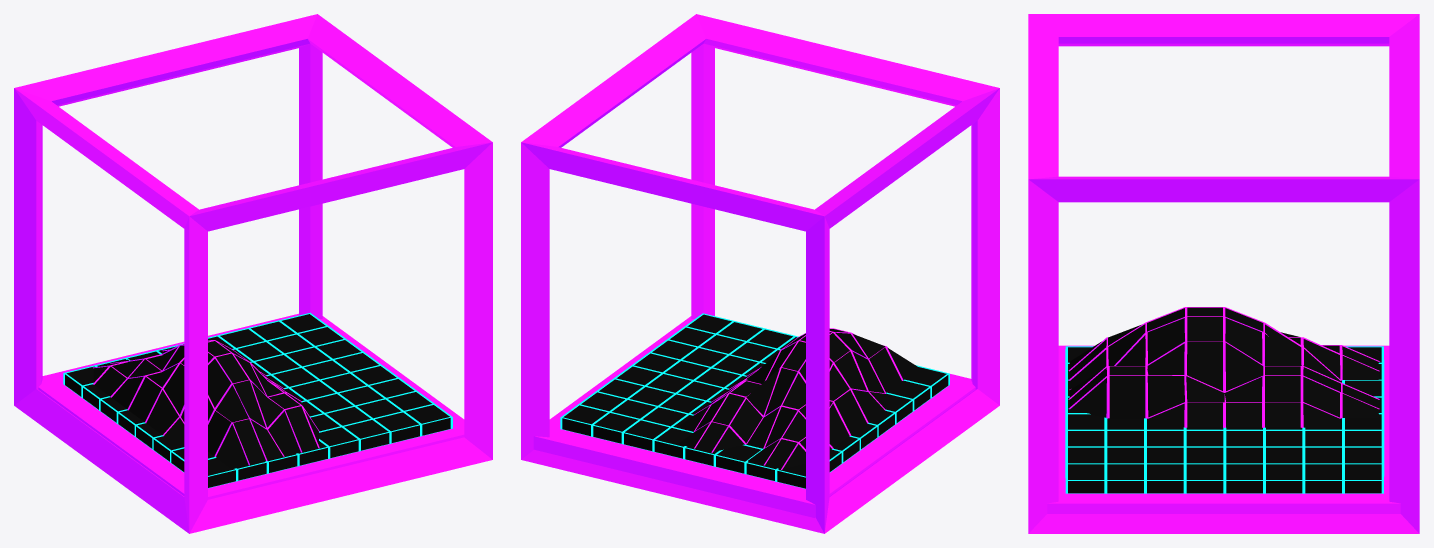
File: Vaporwave Memory Cube.fbx
The picture shows the model from 3 angles, left to right: view 1: azimuth 30°, elevation 25°; view 2: azimuth 150°, elevation 25°; view 3: azimuth 270°, elevation 25°; orthographic projection. The views are drawn at different scales.
Visible parts, largest first — view 1: Cube.057, Cube.059, Cube.060, Cube.058, Cube.056, Cube.061; view 2: Cube.057, Cube.059, Cube.060, Cube.058, Cube.056, Cube.061; view 3: Cube.057, Cube.060, Cube.059, Cube.058, Cube.056, Cube.061.
Boxes of the visible parts, left/top/right/bottom form: Cube.057: left=14, top=14, right=492, bottom=533; Cube.059: left=65, top=314, right=450, bottom=487; Cube.060: left=93, top=340, right=318, bottom=468; Cube.058: left=38, top=313, right=464, bottom=499; Cube.056: left=63, top=312, right=452, bottom=488; Cube.061: left=92, top=340, right=319, bottom=465; Cube.057: left=521, top=14, right=999, bottom=533; Cube.059: left=562, top=314, right=948, bottom=488; Cube.060: left=678, top=329, right=919, bottom=469; Cube.058: left=533, top=316, right=975, bottom=517; Cube.056: left=560, top=313, right=949, bottom=488; Cube.061: left=694, top=328, right=903, bottom=469; Cube.057: left=1028, top=14, right=1419, bottom=533; Cube.060: left=1069, top=307, right=1378, bottom=427; Cube.059: left=1068, top=347, right=1381, bottom=493; Cube.058: left=1047, top=347, right=1400, bottom=513; Cube.056: left=1065, top=346, right=1384, bottom=493; Cube.061: left=1068, top=307, right=1379, bottom=427.
Size of the model in its own units: 61.71 by 61.71 by 61.71.
